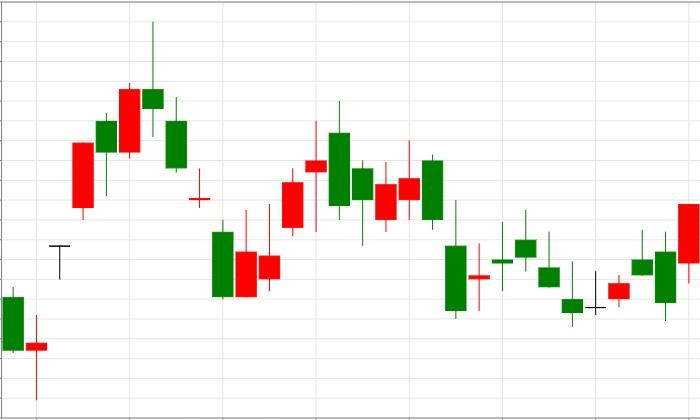evening_star_fall: (26, 20, 187, 400)
